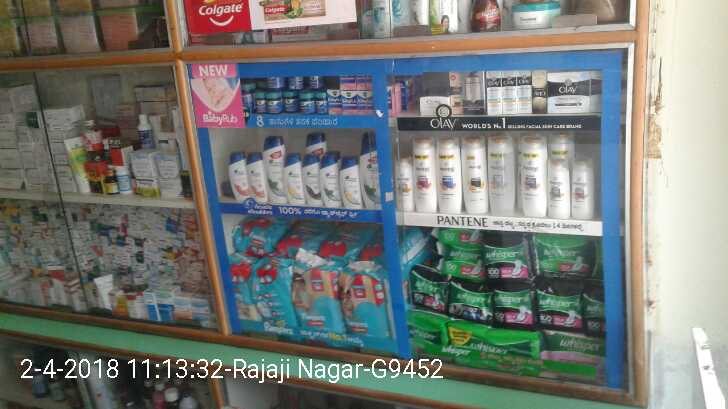vicks: (328, 76, 410, 118), (241, 77, 327, 114)
